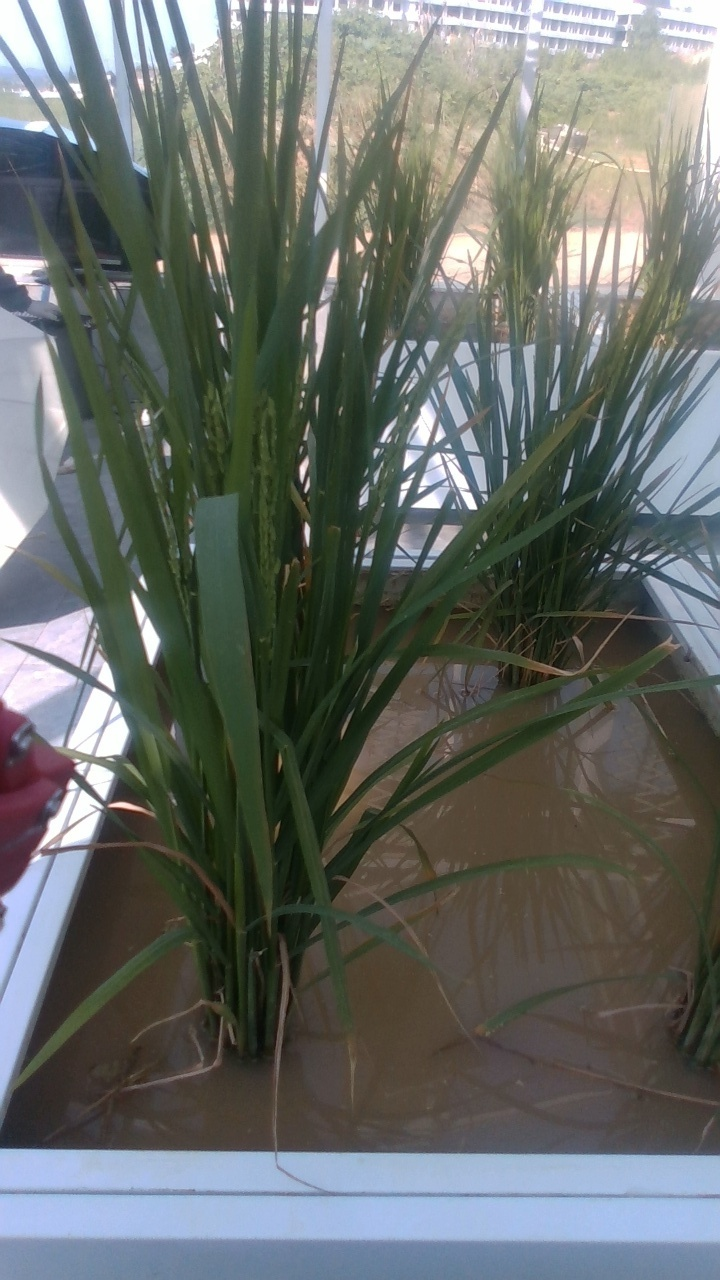rice_plant: (19, 9, 471, 1069)
